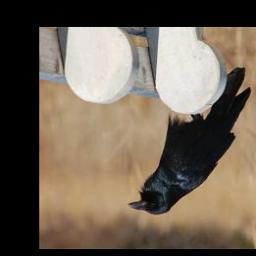Crow: (128, 66, 252, 215)
